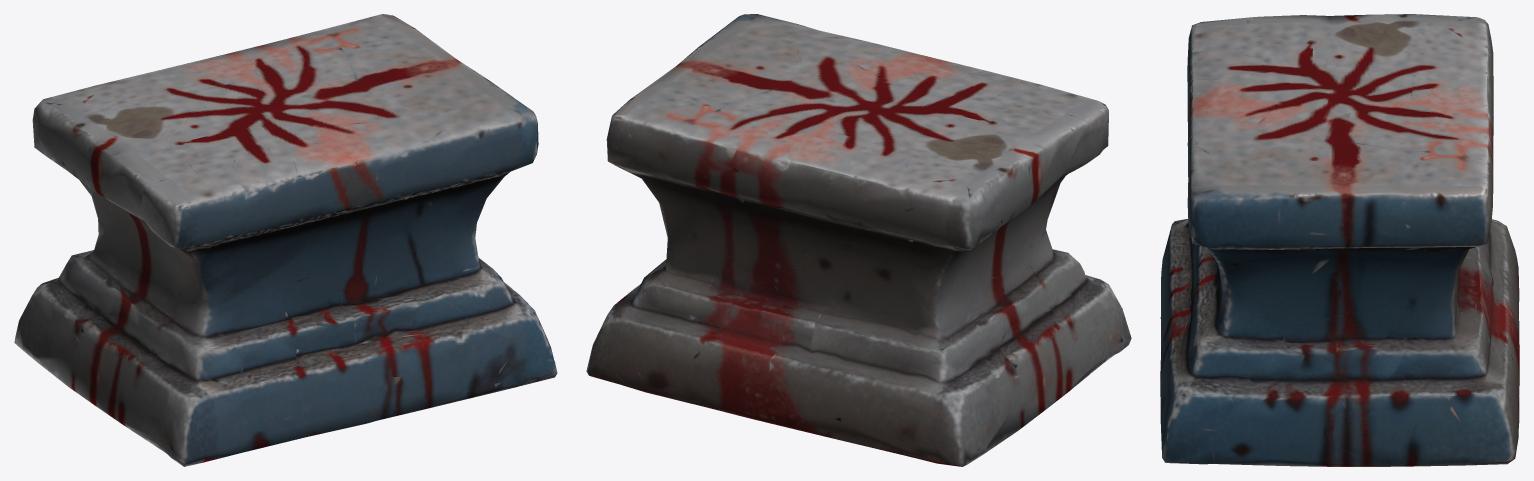
File: stone_altar.glb
3 views of the same model, side by side, from view 1: azimuth 30°, elevation 25°; view 2: azimuth 150°, elevation 25°; view 3: azimuth 270°, elevation 25° (orthographic). The views are drawn at different scales.
Bounding box in the file's own units: 2 × 1.32 × 1.58.
Materials: 1 (1 with a texture image).
